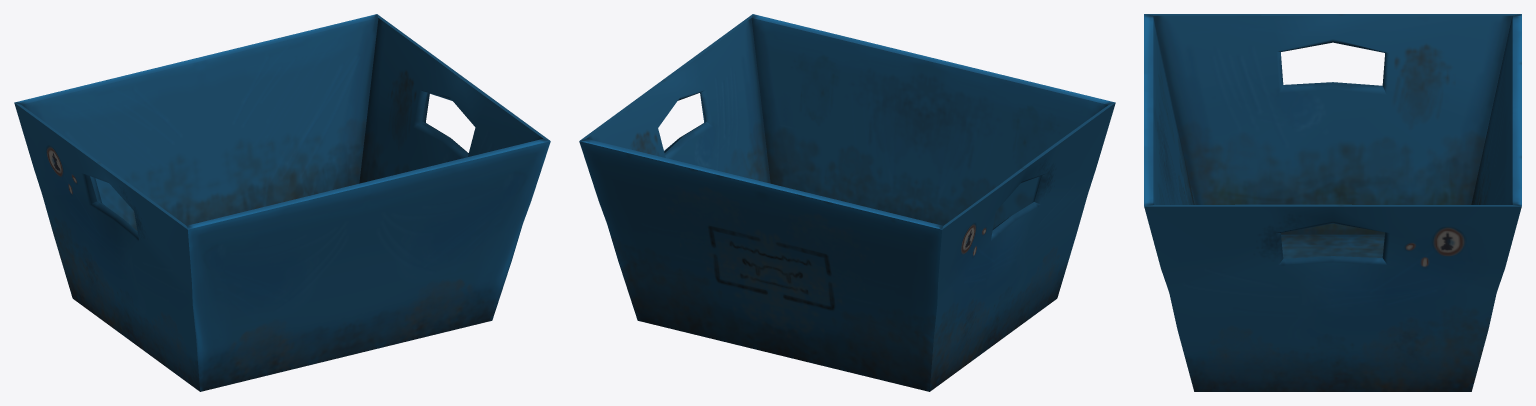
File: BasketBox.fbx
The picture shows the model from 3 angles, left to right: view 1: azimuth 30°, elevation 25°; view 2: azimuth 150°, elevation 25°; view 3: azimuth 270°, elevation 25°; orthographic projection. The views are drawn at different scales.
Parts seen in each view (by area): view 1: Basket; view 2: Basket; view 3: Basket.
Part boxes in pixels (left/top/right/bottom): Basket: left=14, top=14, right=550, bottom=391; Basket: left=579, top=14, right=1115, bottom=391; Basket: left=1144, top=14, right=1521, bottom=391.
Size of the model in its own units: 8.8 by 4.35 by 7.29.
